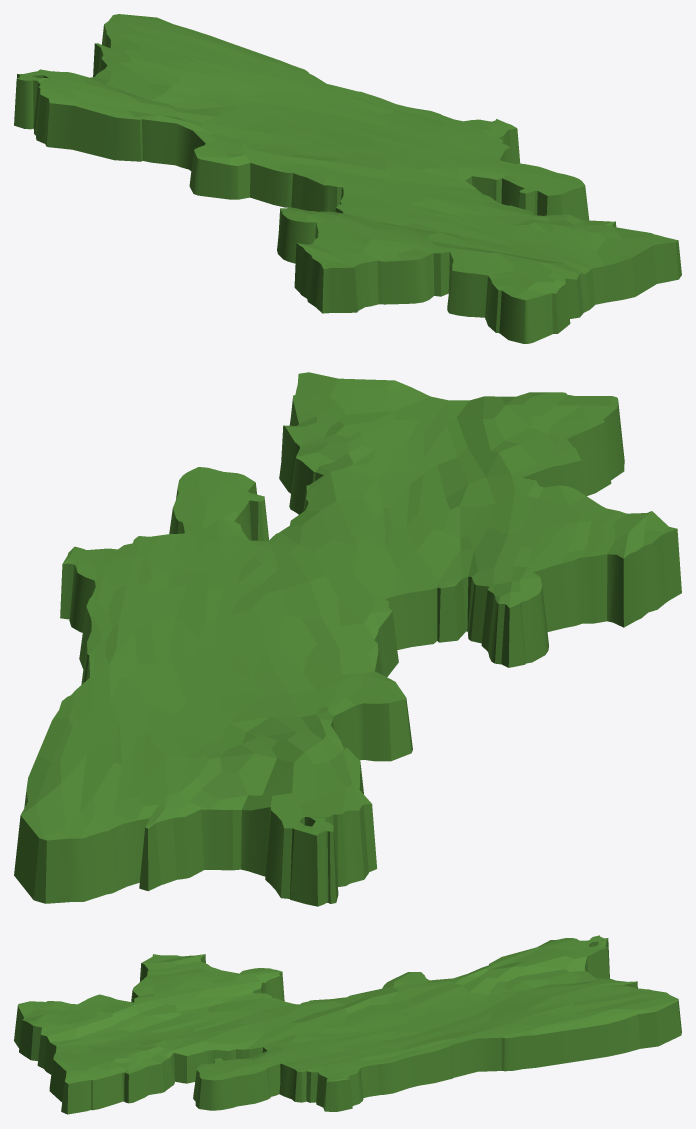
File: grass_layer_cut_block_A_A.fbx
3 renders of one model, top to bottom at view 1: azimuth 30°, elevation 25°; view 2: azimuth 150°, elevation 25°; view 3: azimuth 270°, elevation 25°, orthographic. The views are drawn at different scales.
Parts seen in each view (by area): view 1: grass_layer_cut_block_A_A; view 2: grass_layer_cut_block_A_A; view 3: grass_layer_cut_block_A_A.
Part boxes in pixels (x1,y1,x2,y2): grass_layer_cut_block_A_A: (14,14,681,343); grass_layer_cut_block_A_A: (14,372,681,906); grass_layer_cut_block_A_A: (14,935,681,1114).
Bounding box in the file's own units: 2069 × 268 × 4135.
